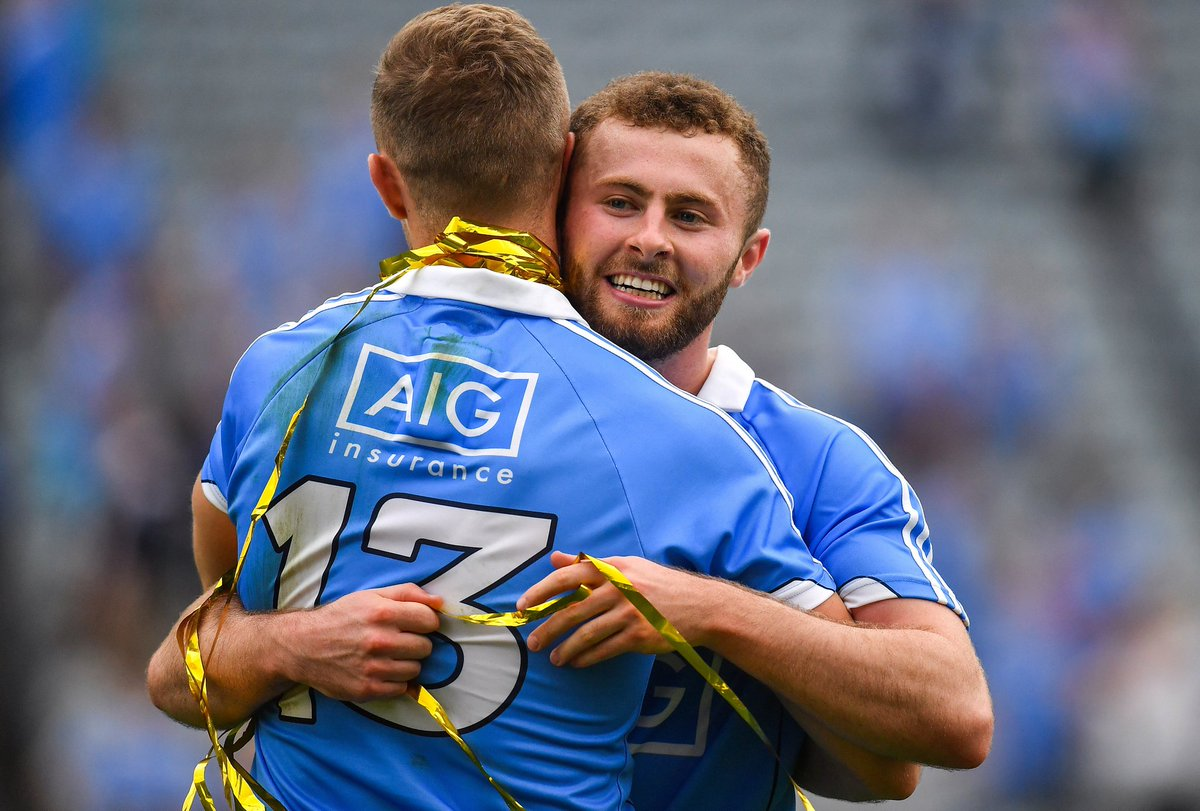player: (197, 6, 689, 775), (546, 58, 970, 763)
